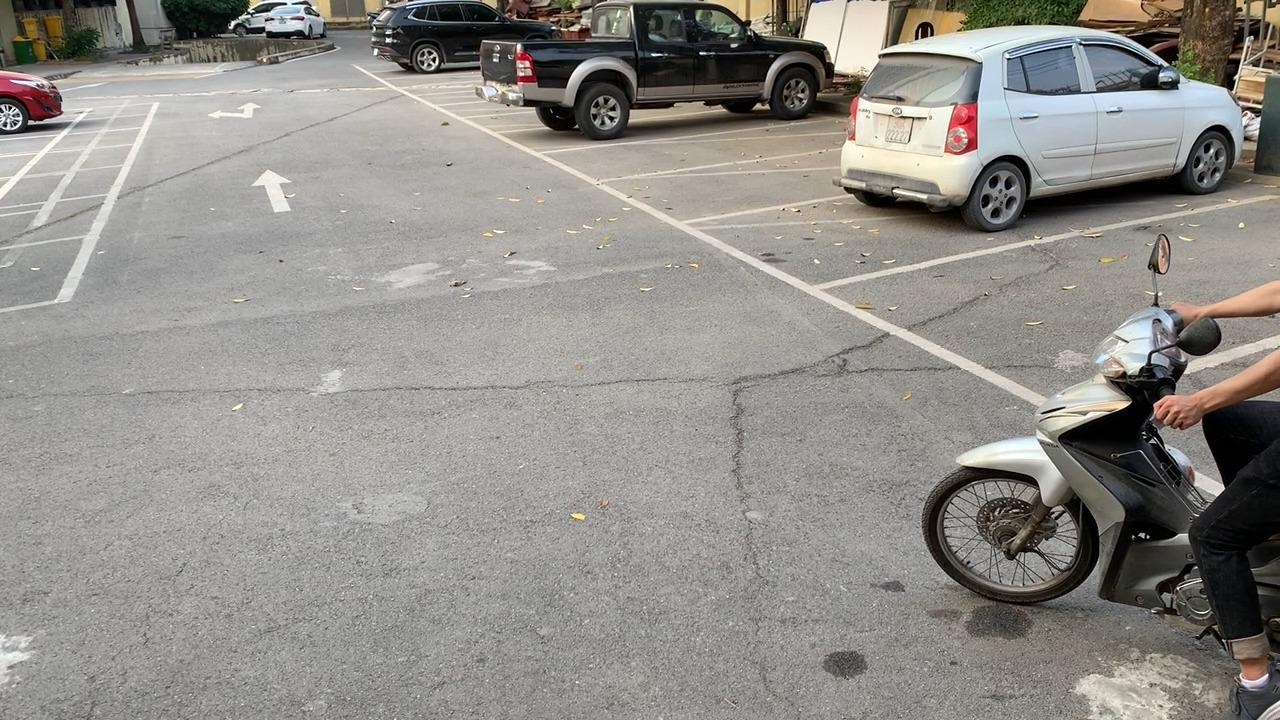motorcyclist: (917, 230, 1280, 720)
